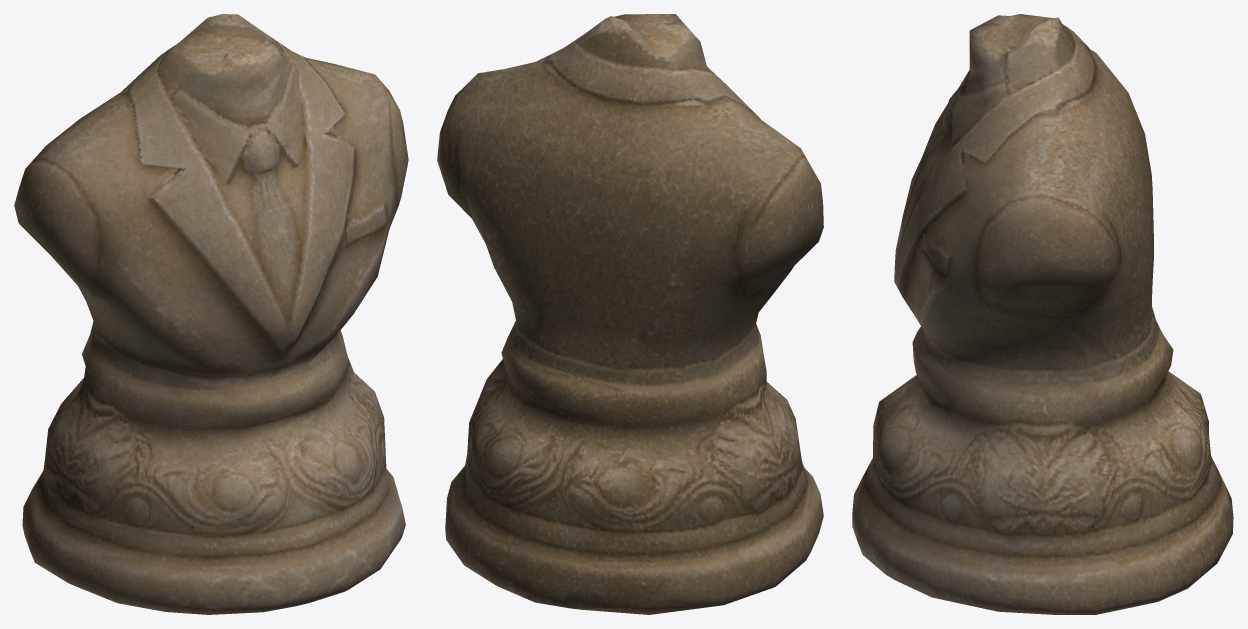
The model's file is NPC_Body_01.fbx.
3 views of the same model, side by side, from view 1: azimuth 30°, elevation 25°; view 2: azimuth 150°, elevation 25°; view 3: azimuth 270°, elevation 25° (orthographic).
Parts seen in each view (by area): view 1: NPC_Body_01; view 2: NPC_Body_01; view 3: NPC_Body_01.
Boxes of the visible parts, box(x1,y1,x2,y2) form: NPC_Body_01: box(14, 14, 408, 614); NPC_Body_01: box(437, 14, 823, 614); NPC_Body_01: box(852, 14, 1233, 614).
Size of the model in its own units: 72.11 by 99.27 by 64.67.
